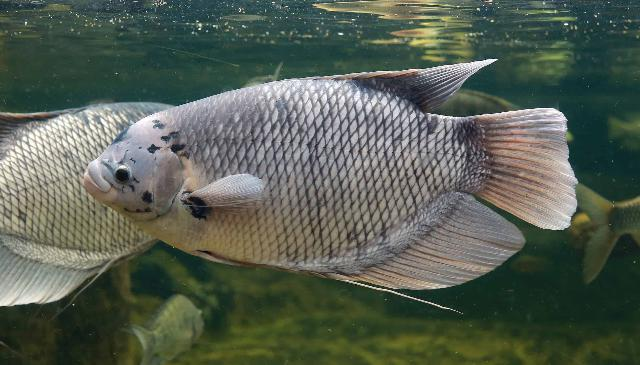Mulut: (61, 144, 121, 204)
Sirip Anal: (318, 184, 544, 300)
Sirip Dada: (170, 160, 284, 232)
Sirip Ekor: (460, 98, 590, 244)
Sirip Punggung: (310, 46, 510, 122)
